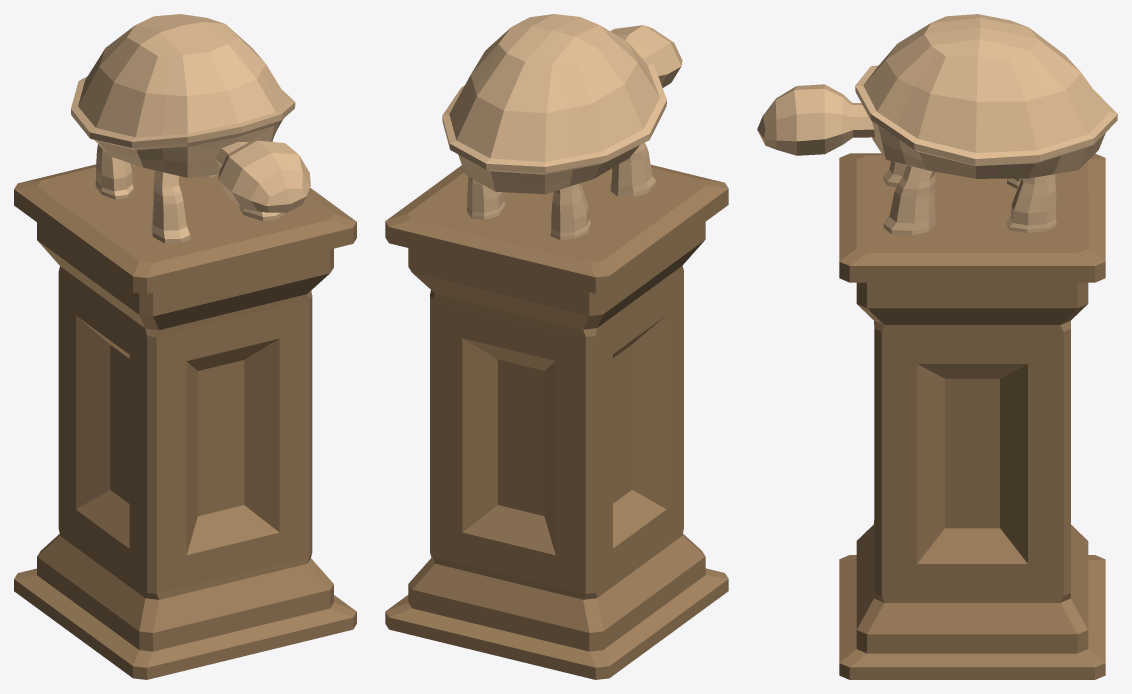
File: turtle_statue.FBX
3 renders of one model, left to right at view 1: azimuth 30°, elevation 25°; view 2: azimuth 150°, elevation 25°; view 3: azimuth 270°, elevation 25°, orthographic. The views are drawn at different scales.
Visible parts, largest first — view 1: statue; view 2: statue; view 3: statue.
Part boxes in pixels (x1,y1,x2,y2): statue: (14, 14, 356, 679); statue: (385, 14, 728, 679); statue: (757, 14, 1117, 679).
Bounding box in the file's own units: 22.64 × 55.93 × 30.68.
